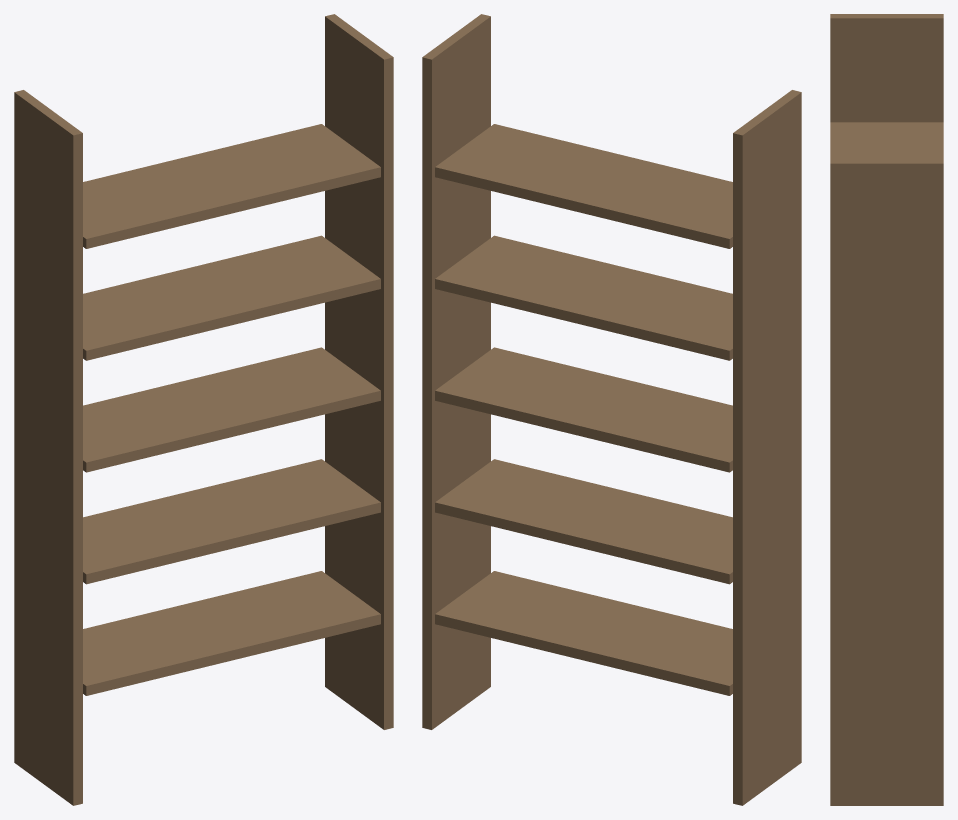
The model's file is bookshelf_01.glb.
The picture shows the model from 3 angles, left to right: view 1: azimuth 30°, elevation 25°; view 2: azimuth 150°, elevation 25°; view 3: azimuth 270°, elevation 25°; orthographic projection. The views are drawn at different scales.
Size of the model in its own units: 1 by 2 by 0.32.
